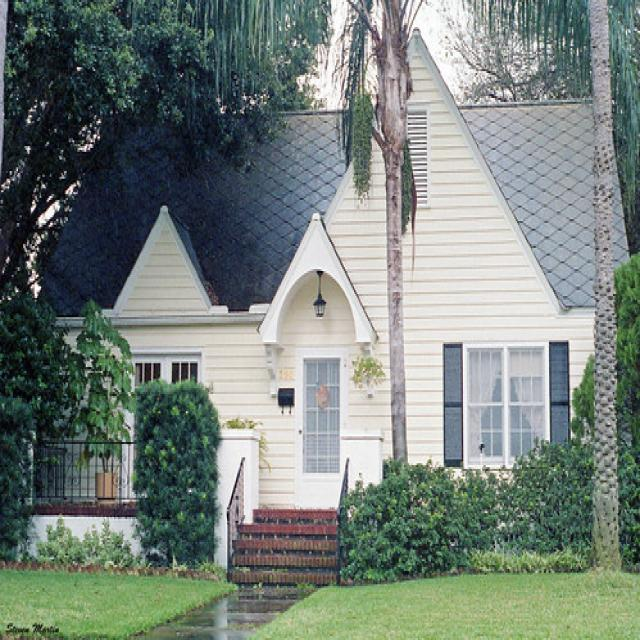Normal_building: (30, 28, 632, 593)
